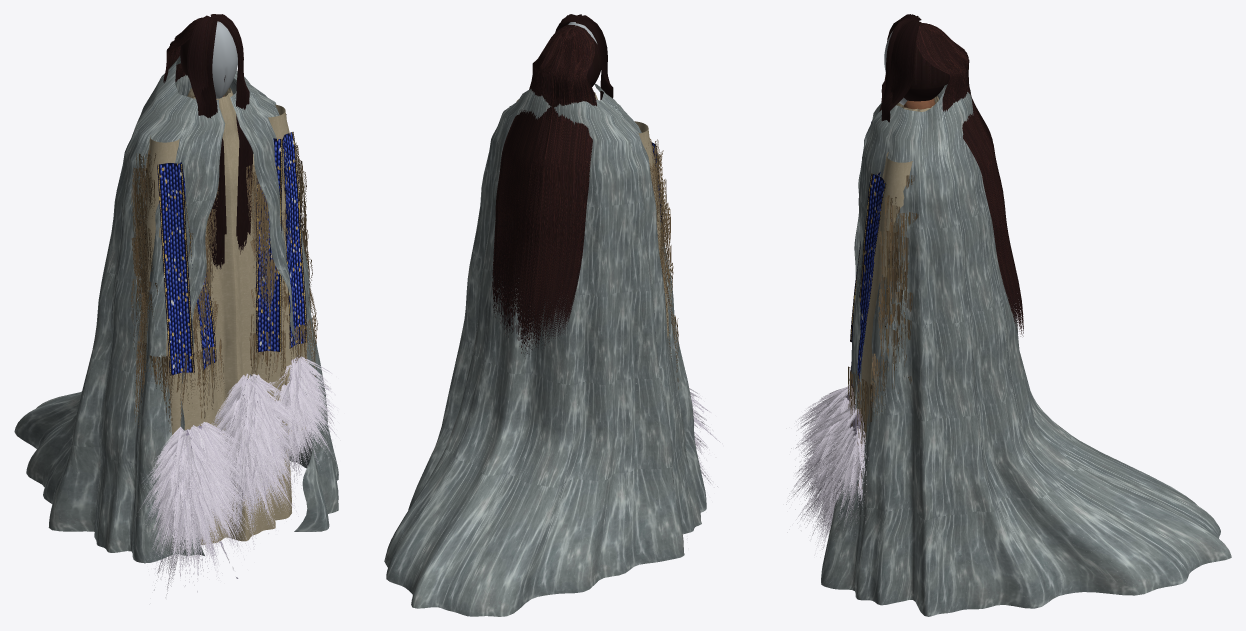
Rendered from eblis.glb.
The picture shows the model from 3 angles, left to right: view 1: azimuth 30°, elevation 25°; view 2: azimuth 150°, elevation 25°; view 3: azimuth 270°, elevation 25°; orthographic projection. The views are drawn at different scales.
Visible parts, largest first — view 1: Rig_Body, Rig_Head, Rig_Face; view 2: Rig_Body, Rig_Head; view 3: Rig_Body, Rig_Head, Rig_Face.
Part boxes in pixels (left/top/right/bottom): Rig_Body: left=14, top=56, right=340, bottom=597; Rig_Head: left=163, top=14, right=253, bottom=269; Rig_Face: left=180, top=21, right=237, bottom=98; Rig_Body: left=384, top=83, right=722, bottom=616; Rig_Head: left=492, top=14, right=613, bottom=356; Rig_Body: left=786, top=84, right=1231, bottom=616; Rig_Head: left=879, top=14, right=1023, bottom=336; Rig_Face: left=884, top=31, right=950, bottom=105.
Size of the model in its own units: 1.04 by 2.08 by 1.47.
Materials: 12 (9 with a texture image).
